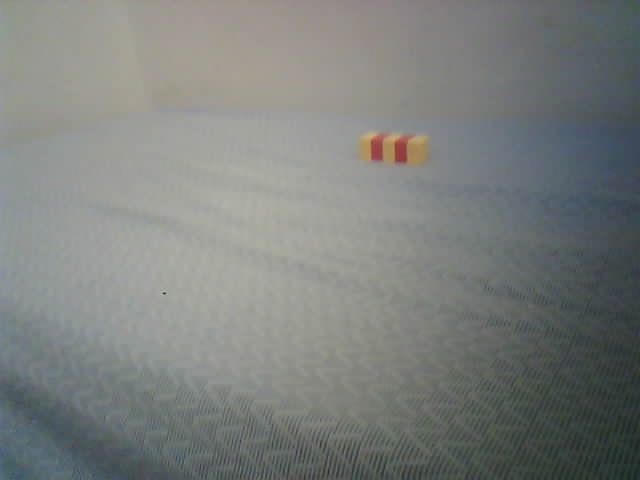lego: (356, 131, 430, 166)
